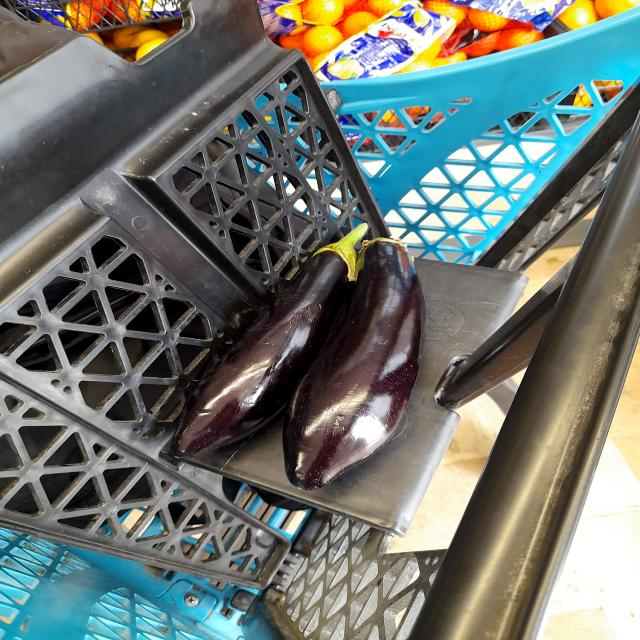eggplant: (164, 209, 374, 461), (274, 234, 430, 492)
